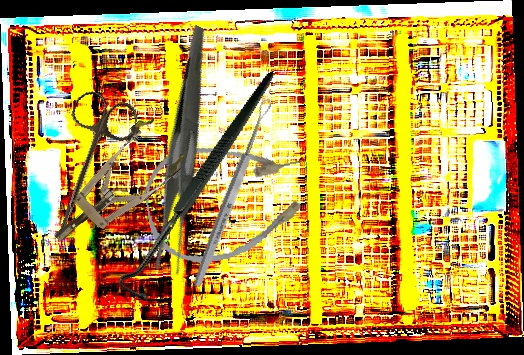Cannula: (138, 130, 316, 272)
Dressing Forceps: (91, 24, 281, 279)
Hook Surgical: (65, 71, 340, 308)
Iris Scissors: (31, 87, 142, 251)
Speculum: (35, 112, 191, 262)
Surgical Spoon: (190, 97, 275, 289)
